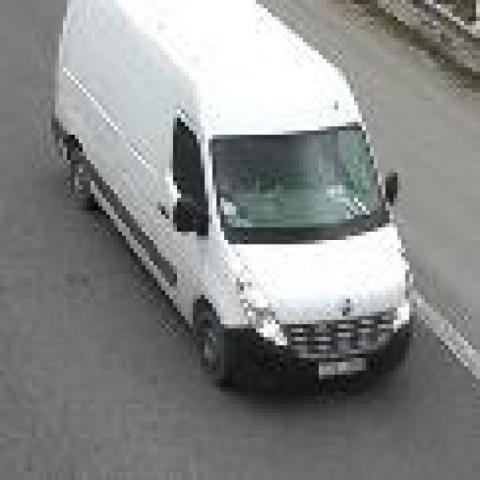van: (53, 0, 407, 387)
